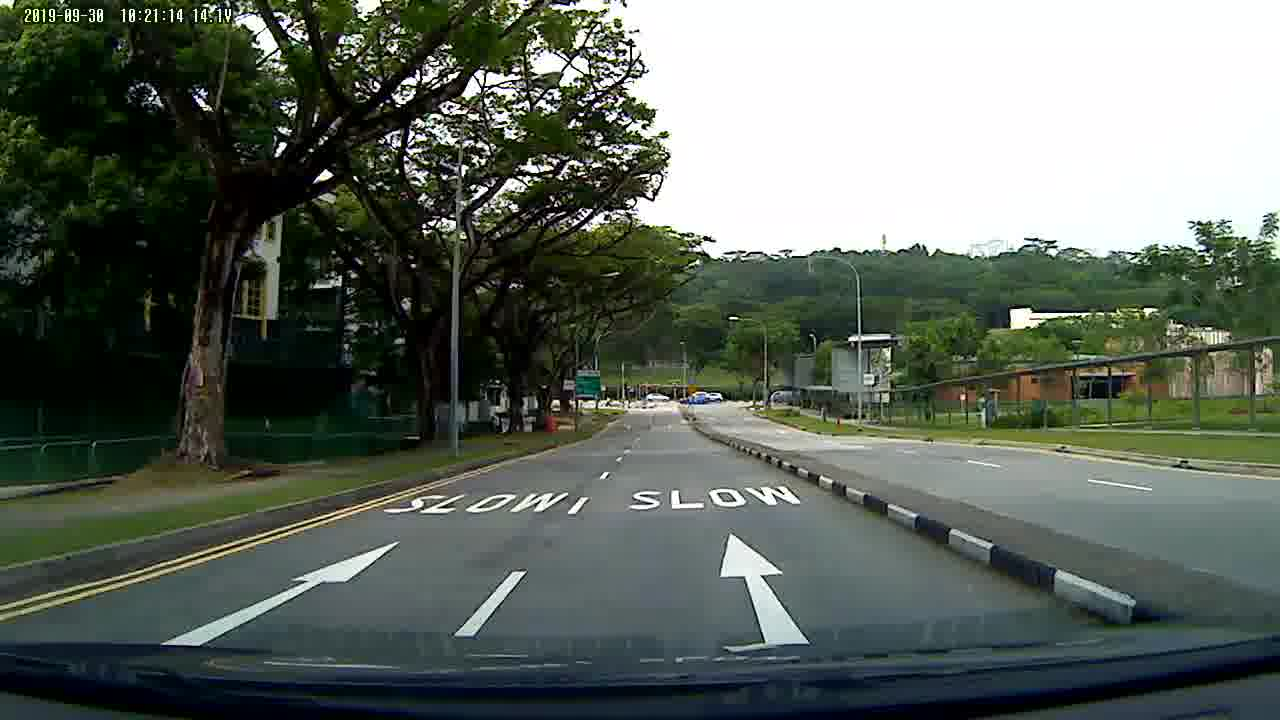car: (642, 392, 672, 405)
